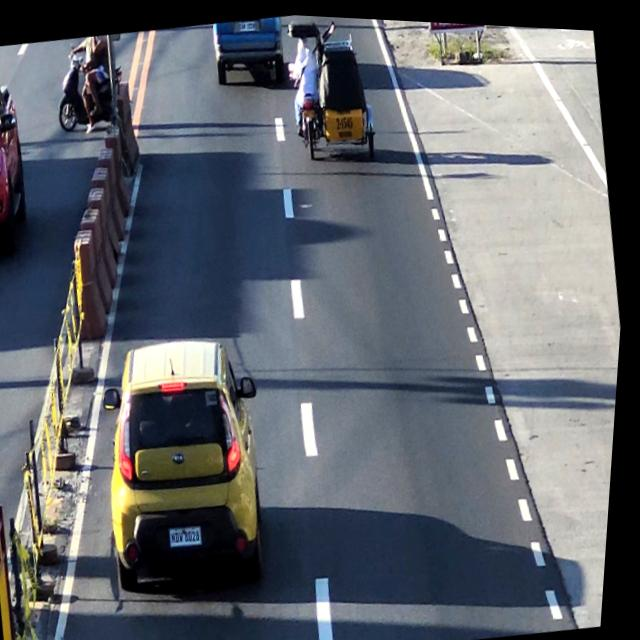Car: (91, 327, 294, 600), (207, 11, 291, 87)
License-Plate: (174, 521, 212, 546)
Tricycle: (277, 12, 387, 172)
